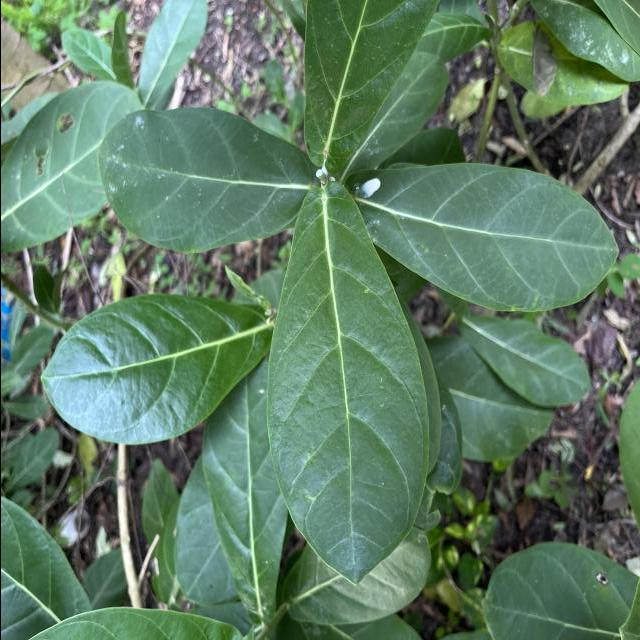Calotropis gigantea: (264, 182, 432, 588), (346, 160, 620, 314), (38, 292, 272, 447), (93, 106, 313, 256), (0, 79, 144, 255), (456, 312, 590, 408)
